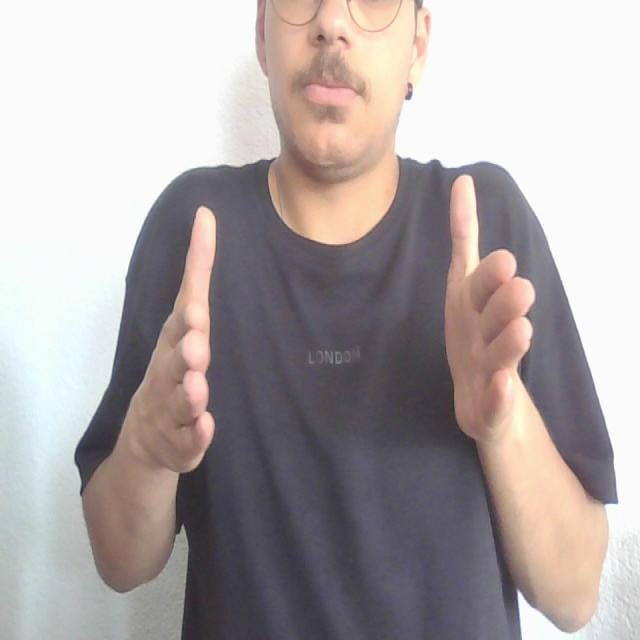Nasil: (136, 164, 544, 480)
